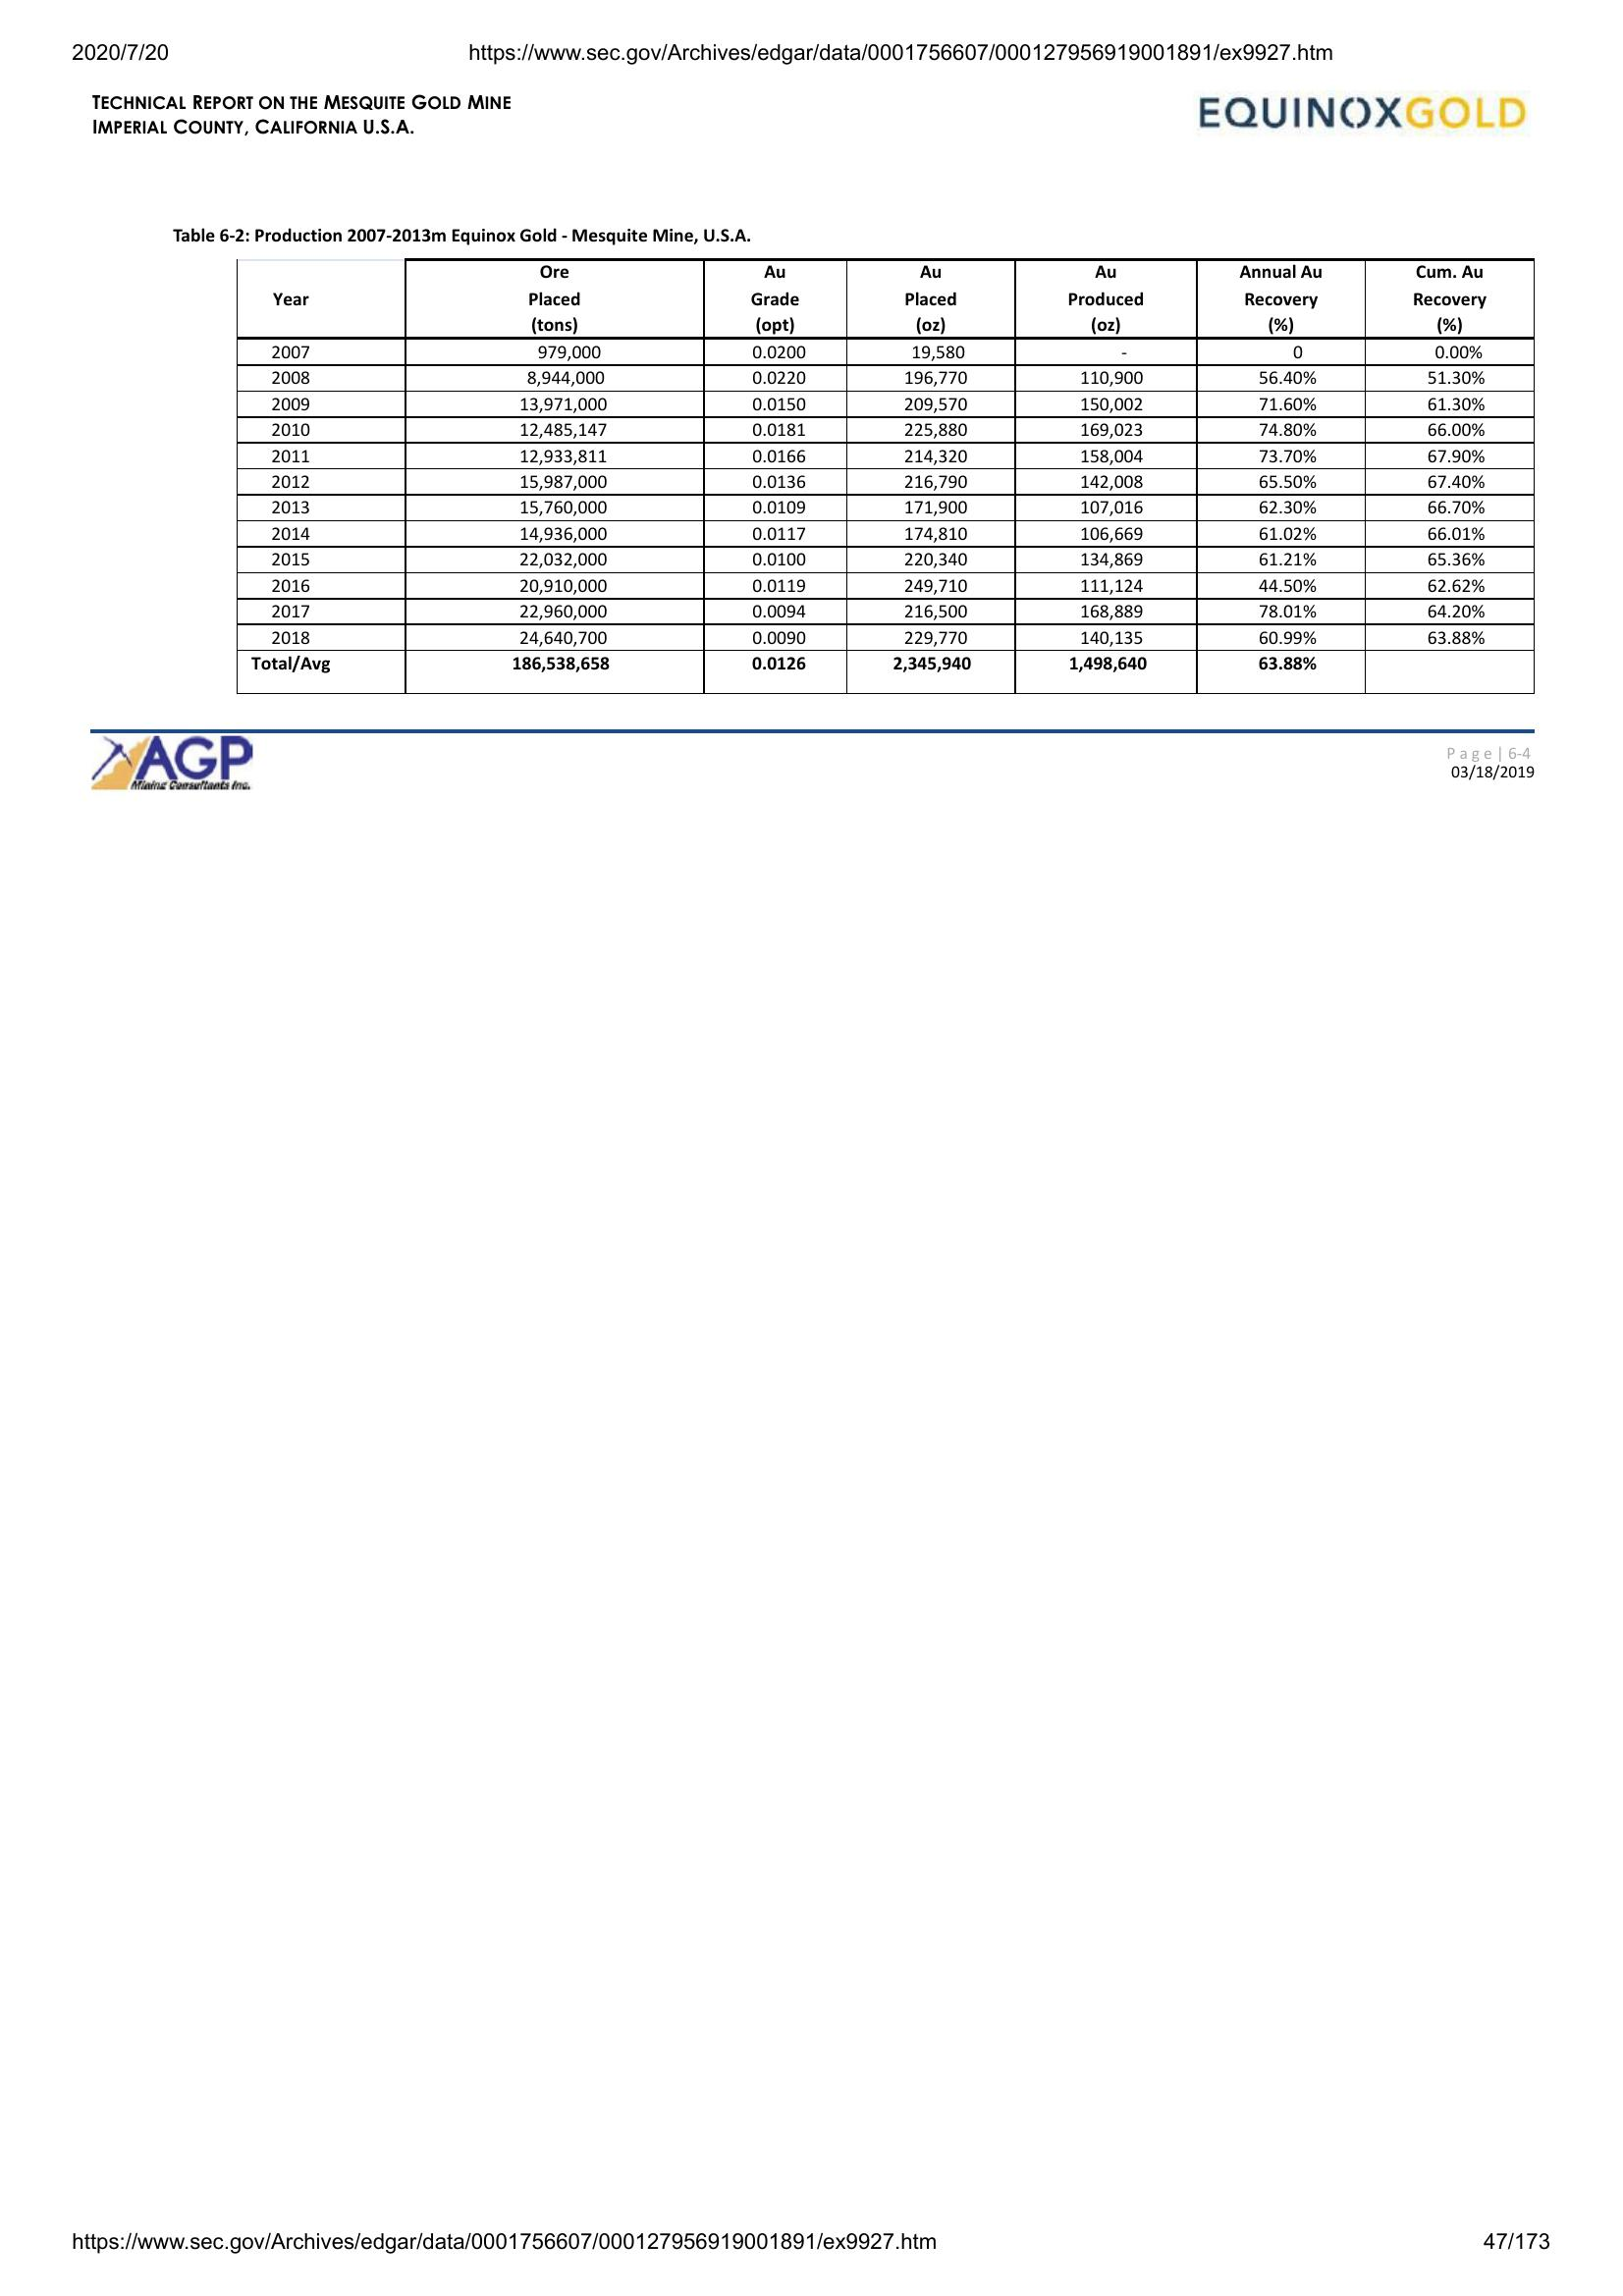table: (228, 249, 1542, 704)
